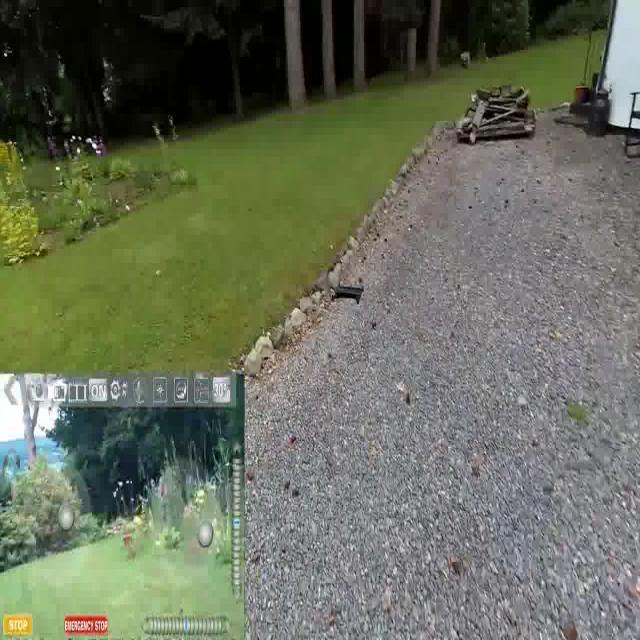drones: (319, 261, 375, 323)
